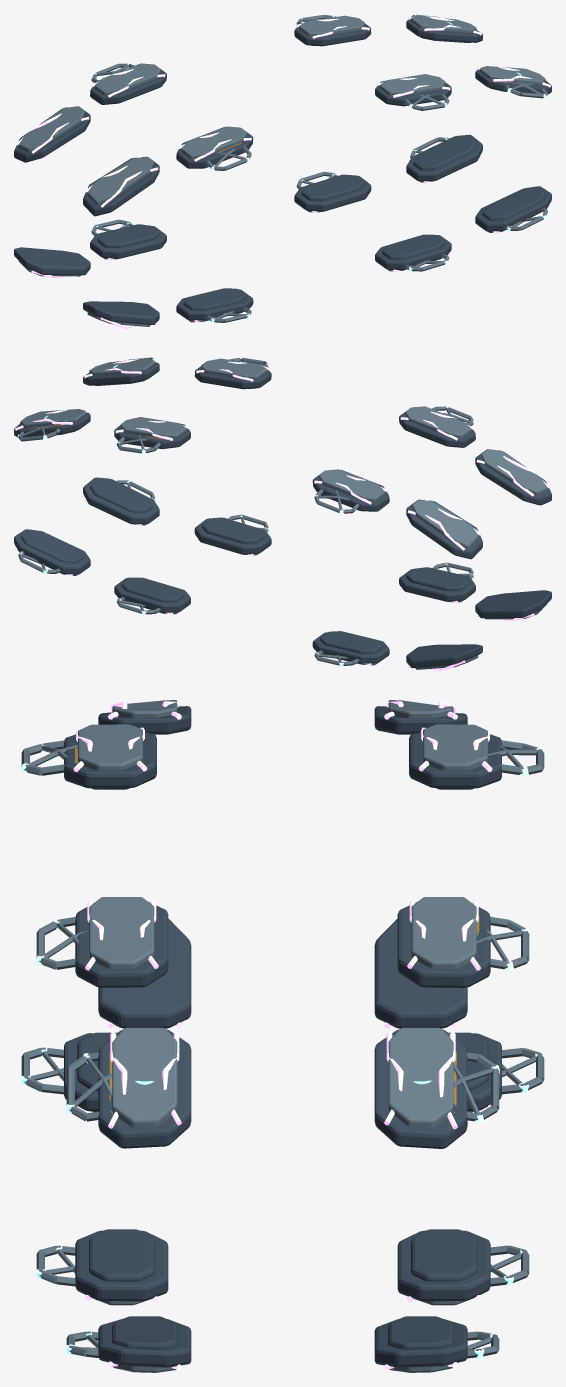
The model's file is plating.glb.
3 views of the same model, one above another, from view 1: azimuth 30°, elevation 25°; view 2: azimuth 150°, elevation 25°; view 3: azimuth 270°, elevation 25° (orthographic). The views are drawn at different scales.
Parts seen in each view (by area): view 1: p_heavy Fitting gunmetal, p_heavy Brushed fitting edges, p_aegis Fitting gunmetal, p_light Brushed fitting edges, p_heavy p_heavy emitter, p_reactive Fitting gunmetal; view 2: p_heavy Fitting gunmetal, p_heavy Brushed fitting edges, p_aegis Fitting gunmetal, p_light Brushed fitting edges, p_heavy p_heavy emitter, p_reactive Fitting gunmetal; view 3: p_heavy Fitting gunmetal, p_heavy Brushed fitting edges, p_light Brushed fitting edges, p_aegis Fitting gunmetal, p_heavy p_heavy emitter, p_light p_light emitter.
Boxes of the visible parts, x1,y1,x2,y2 form: p_heavy Fitting gunmetal: (14, 19, 551, 324); p_heavy Brushed fitting edges: (18, 15, 545, 326); p_aegis Fitting gunmetal: (97, 37, 544, 310); p_light Brushed fitting edges: (91, 14, 547, 322); p_heavy p_heavy emitter: (16, 16, 550, 328); p_reactive Fitting gunmetal: (102, 160, 453, 309); p_heavy Fitting gunmetal: (14, 362, 551, 668); p_heavy Brushed fitting edges: (20, 358, 547, 669); p_aegis Fitting gunmetal: (21, 380, 468, 653); p_light Brushed fitting edges: (18, 357, 473, 665); p_heavy p_heavy emitter: (15, 359, 549, 671); p_reactive Fitting gunmetal: (103, 499, 457, 652); p_heavy Fitting gunmetal: (64, 706, 501, 1367); p_heavy Brushed fitting edges: (78, 700, 487, 1372); p_light Brushed fitting edges: (21, 740, 544, 1358); p_aegis Fitting gunmetal: (77, 788, 488, 1349); p_heavy p_heavy emitter: (73, 701, 492, 1369); p_light p_light emitter: (21, 742, 544, 1357).
Size of the model in its own units: 43.2 by 16.19 by 21.4.
